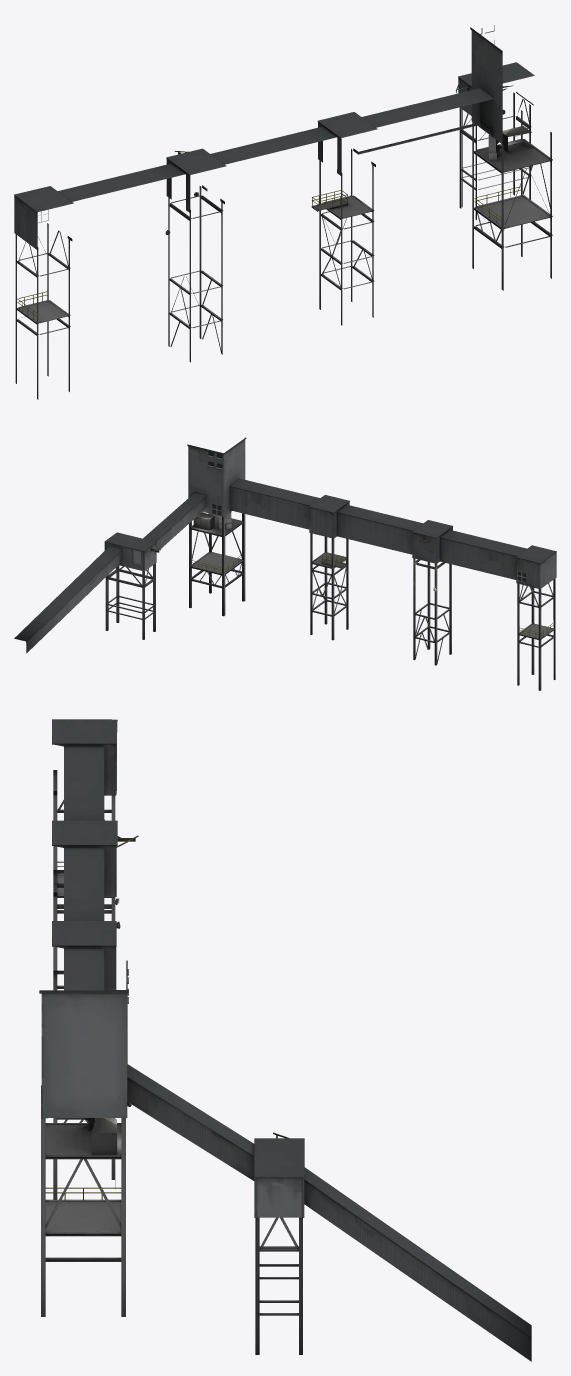
3 renders of one model, top to bottom at view 1: azimuth 30°, elevation 25°; view 2: azimuth 150°, elevation 25°; view 3: azimuth 270°, elevation 25°, orthographic. The views are drawn at different scales.
Visible parts, largest first — view 1: body0_model0_lod0_mesh0; view 2: body0_model0_lod0_mesh0; view 3: body0_model0_lod0_mesh0.
Part boxes in pixels (<box>): body0_model0_lod0_mesh0: <box>14,25,552,399</box>; body0_model0_lod0_mesh0: <box>14,437,556,690</box>; body0_model0_lod0_mesh0: <box>39,719,531,1361</box>.
Size of the model in its own units: 374 by 138 by 188.
Materials: 1 (1 with a texture image).
